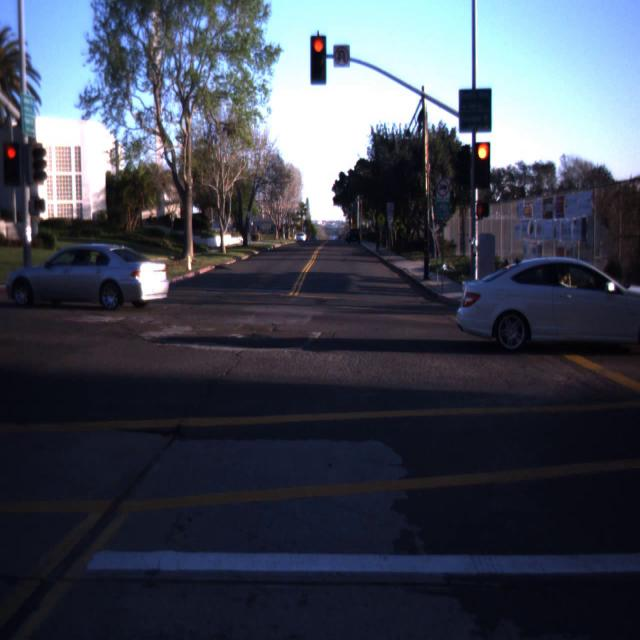stop: (479, 143, 489, 157), (6, 146, 14, 156), (315, 38, 323, 48)
stop traffic light: (470, 136, 498, 196), (308, 33, 330, 78), (0, 141, 22, 185)
